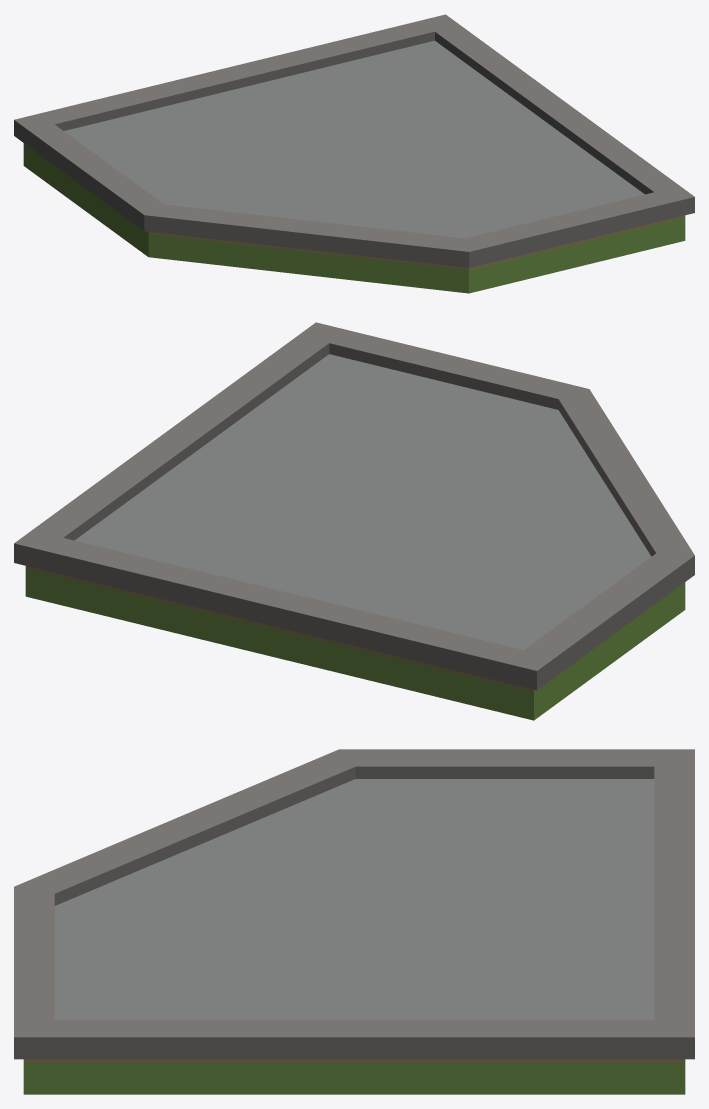
Rendered from Building_A_03_02.FBX.
3 renders of one model, top to bottom at view 1: azimuth 30°, elevation 25°; view 2: azimuth 150°, elevation 25°; view 3: azimuth 270°, elevation 25°, orthographic. The views are drawn at different scales.
Parts seen in each view (by area): view 1: Building_A_03_02; view 2: Building_A_03_02; view 3: Building_A_03_02.
Part boxes in pixels (left/top/right/bottom): Building_A_03_02: left=14, top=14, right=694, bottom=293; Building_A_03_02: left=14, top=322, right=694, bottom=720; Building_A_03_02: left=14, top=749, right=694, bottom=1094.
Bounding box in the file's own units: 5.02 × 0.5001 × 5.02.
